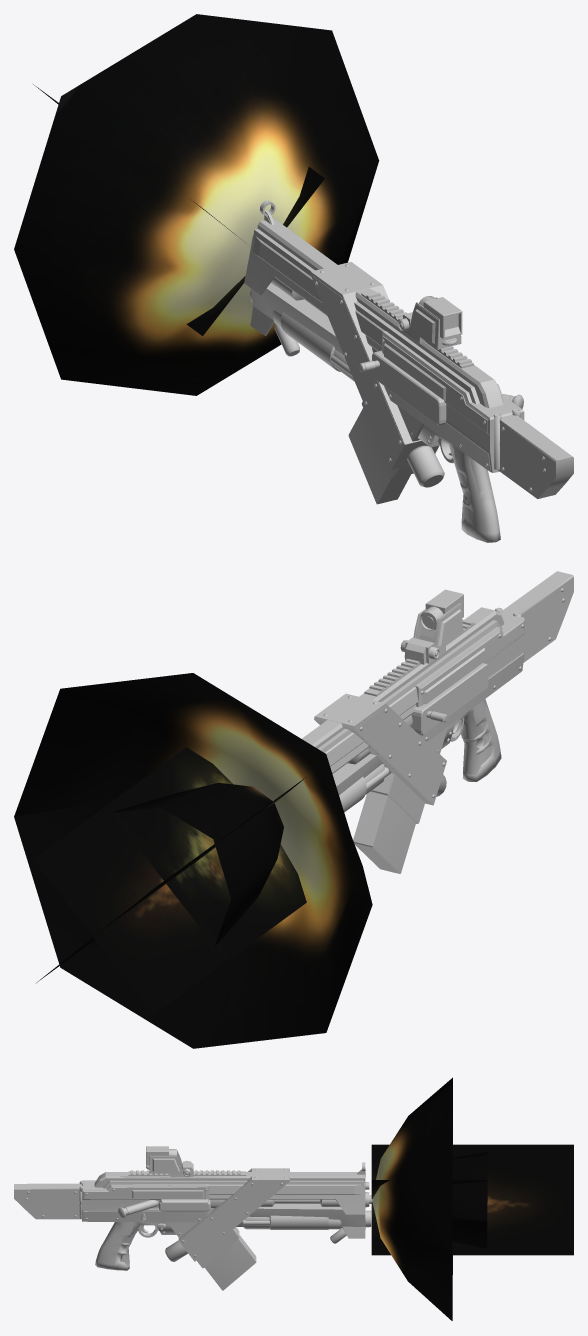
File: TP_Lurker_AutodeskFBX2012.fbx
3 views of the same model, one above another, from view 1: azimuth 30°, elevation 25°; view 2: azimuth 150°, elevation 25°; view 3: azimuth 270°, elevation 25° (orthographic). The views are drawn at different scales.
Parts seen in each view (by area): view 1: Lurker_MuzzleFlash3_LOD300, Gun_LOD300, Gun_LOD200, Gun_LOD100; view 2: Lurker_MuzzleFlash3_LOD300, Gun_LOD300, Lurker_MuzzleFlash1_LOD300, Gun_LOD100, Gun_LOD200; view 3: Gun_LOD200, Lurker_MuzzleFlash1_LOD300, Lurker_MuzzleFlash3_LOD300, Gun_LOD300, Gun_LOD100.
Boxes of the visible parts, box(x1,y1,x2,y2) form: Lurker_MuzzleFlash3_LOD300: box(14, 14, 379, 395); Gun_LOD300: box(244, 200, 573, 542); Gun_LOD200: box(254, 200, 572, 541); Gun_LOD100: box(310, 262, 571, 521); Lurker_MuzzleFlash3_LOD300: box(14, 673, 372, 1048); Gun_LOD300: box(302, 571, 573, 873); Lurker_MuzzleFlash1_LOD300: box(33, 782, 283, 1014); Gun_LOD100: box(314, 583, 563, 823); Gun_LOD200: box(318, 571, 568, 870); Gun_LOD200: box(14, 1149, 365, 1290); Lurker_MuzzleFlash1_LOD300: box(371, 1144, 573, 1255); Lurker_MuzzleFlash3_LOD300: box(371, 1077, 486, 1320); Gun_LOD300: box(14, 1146, 372, 1270); Gun_LOD100: box(31, 1165, 289, 1267).
Size of what is drawn, in the model's own units: 25.42 by 25.43 by 57.46.
